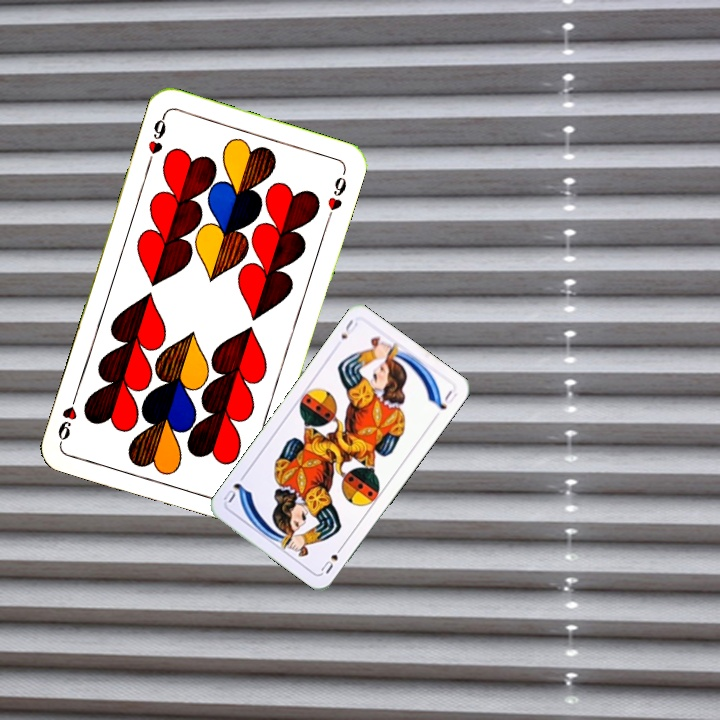H9: (144, 110, 169, 168)
SU: (317, 541, 347, 576), (337, 315, 360, 342)
